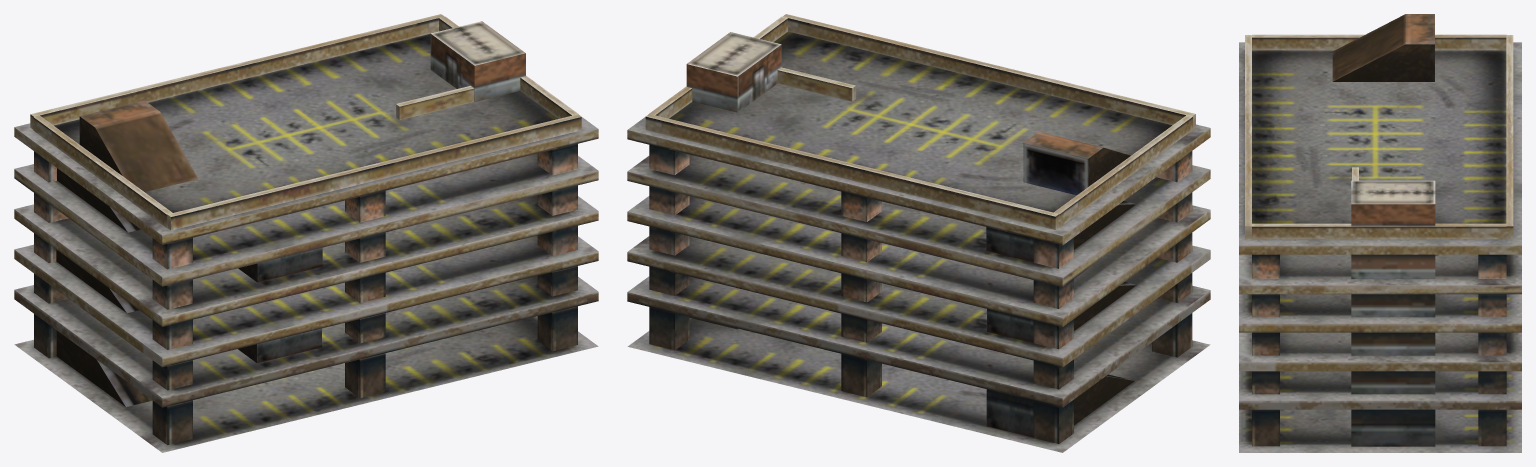
The model's file is Civilian - Civilian Building - European Parking Garage - CBEuroPkg.glb.
3 renders of one model, left to right at view 1: azimuth 30°, elevation 25°; view 2: azimuth 150°, elevation 25°; view 3: azimuth 270°, elevation 25°, orthographic. The views are drawn at different scales.
Visible parts, largest first — view 1: CBEUROPKG; view 2: CBEUROPKG; view 3: CBEUROPKG.
Boxes of the visible parts, x1,y1,x2,y2 form: CBEUROPKG: [14, 14, 598, 452]; CBEUROPKG: [627, 14, 1210, 452]; CBEUROPKG: [1239, 14, 1521, 452].
Size of the model in its own units: 91.01 by 51.48 by 53.54.
1 material, 1 textured.
